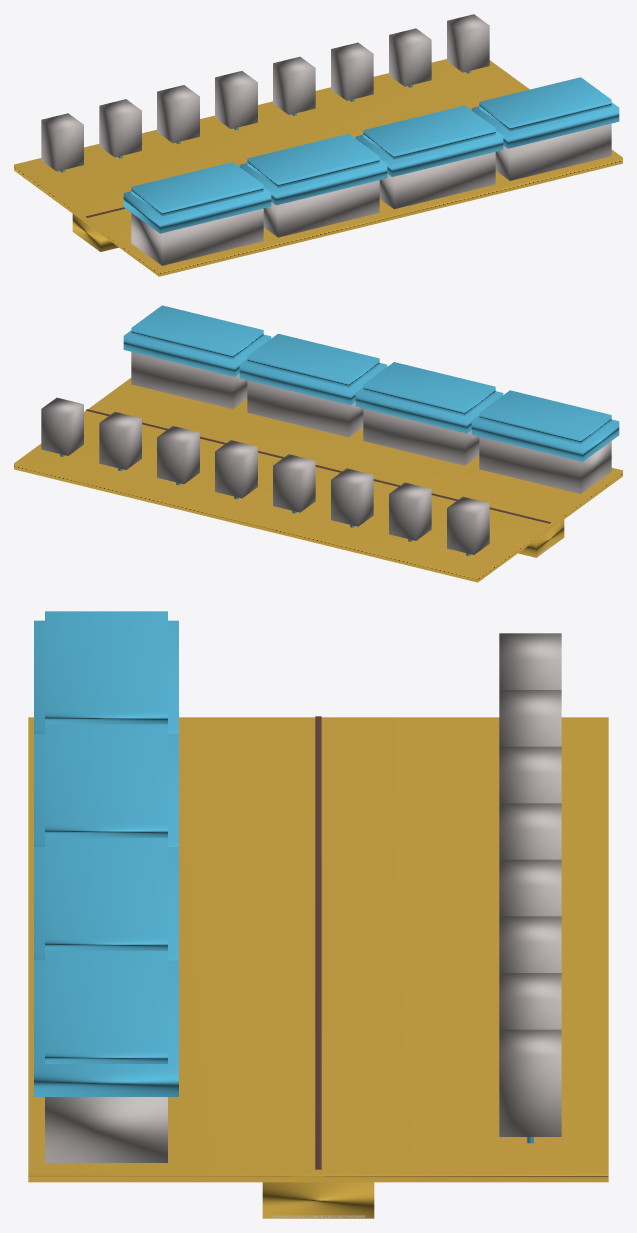
The picture shows the model from 3 angles, top to bottom: view 1: azimuth 30°, elevation 25°; view 2: azimuth 150°, elevation 25°; view 3: azimuth 270°, elevation 25°; orthographic projection. The views are drawn at different scales.
Visible parts, largest first — view 1: features_simplified, street_simplified; view 2: features_simplified, street_simplified; view 3: street_simplified, features_simplified.
Boxes of the visible parts, bbox=[...] form: features_simplified: bbox=[41, 14, 619, 265]; street_simplified: bbox=[14, 59, 622, 276]; features_simplified: bbox=[41, 305, 619, 555]; street_simplified: bbox=[14, 378, 622, 582]; street_simplified: bbox=[28, 717, 608, 1218]; features_simplified: bbox=[34, 611, 561, 1169].
Size of the model in its own units: 48 by 8 by 26.
2 materials, 2 textured.
